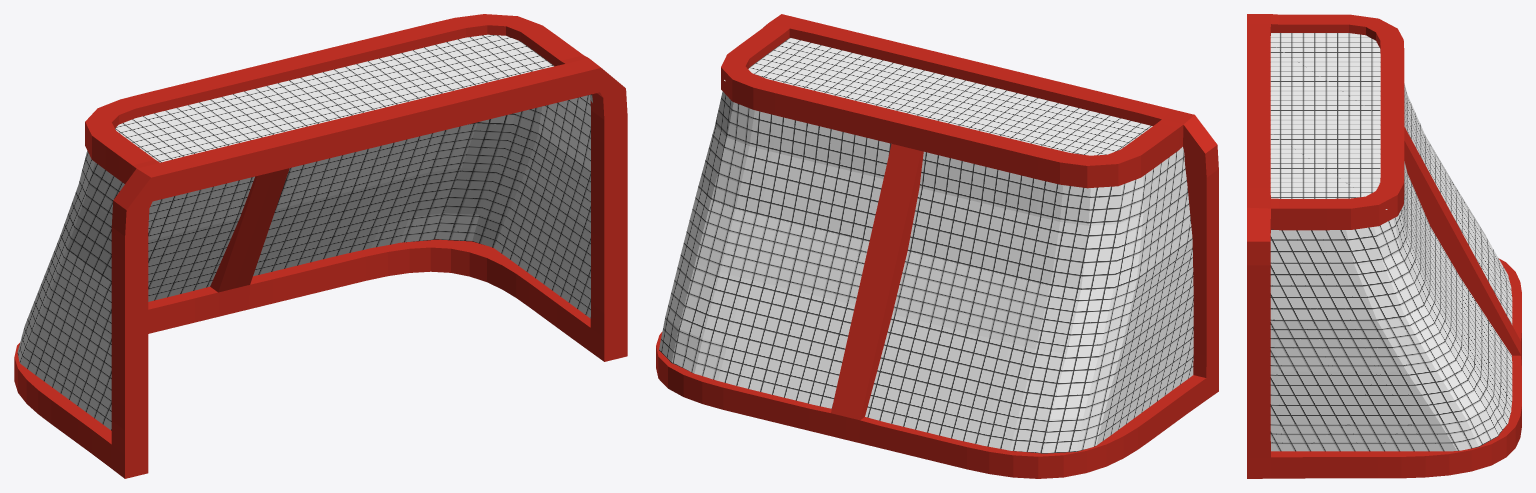
Rendered from HockeyGoal.glb.
3 views of the same model, side by side, from view 1: azimuth 30°, elevation 25°; view 2: azimuth 150°, elevation 25°; view 3: azimuth 270°, elevation 25° (orthographic). The views are drawn at different scales.
Visible parts, largest first — view 1: Goal, GoalNet, GoalNetSuperior; view 2: GoalNet, Goal, GoalNetSuperior; view 3: GoalNet, Goal, GoalNetSuperior.
Boxes of the visible parts, <box> form: Goal: <box>14,14,627,478</box>; GoalNet: <box>17,94,592,430</box>; GoalNetSuperior: <box>115,34,554,162</box>; GoalNet: <box>659,91,1193,453</box>; Goal: <box>656,14,1218,478</box>; GoalNetSuperior: <box>724,38,1152,155</box>; GoalNet: <box>1270,83,1512,451</box>; Goal: <box>1247,14,1521,478</box>; GoalNetSuperior: <box>1270,33,1387,209</box>.
Size of what is drawn, in the model's own units: 0.1086 by 0.0609 by 0.0583.
2 materials, 1 textured.
